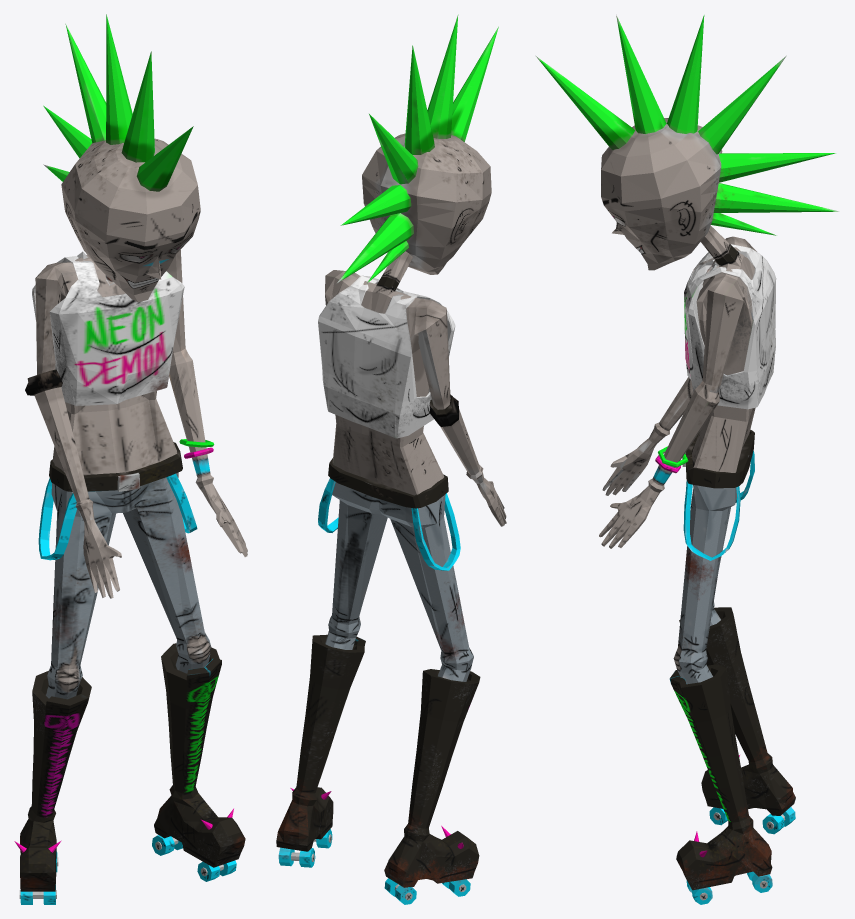
Rendered from punkAnimation_000020.obj.
3 views of the same model, side by side, from view 1: azimuth 30°, elevation 25°; view 2: azimuth 150°, elevation 25°; view 3: azimuth 270°, elevation 25° (orthographic). The views are drawn at different scales.
Parts seen in each view (by area): view 1: Cube.004_Cube.003; view 2: Cube.004_Cube.003; view 3: Cube.004_Cube.003.
Part boxes in pixels (<box>): Cube.004_Cube.003: <box>14,14,247,904</box>; Cube.004_Cube.003: <box>276,14,506,904</box>; Cube.004_Cube.003: <box>536,15,839,904</box>.
Size of the model in its own units: 1.83 by 7.44 by 2.47.
